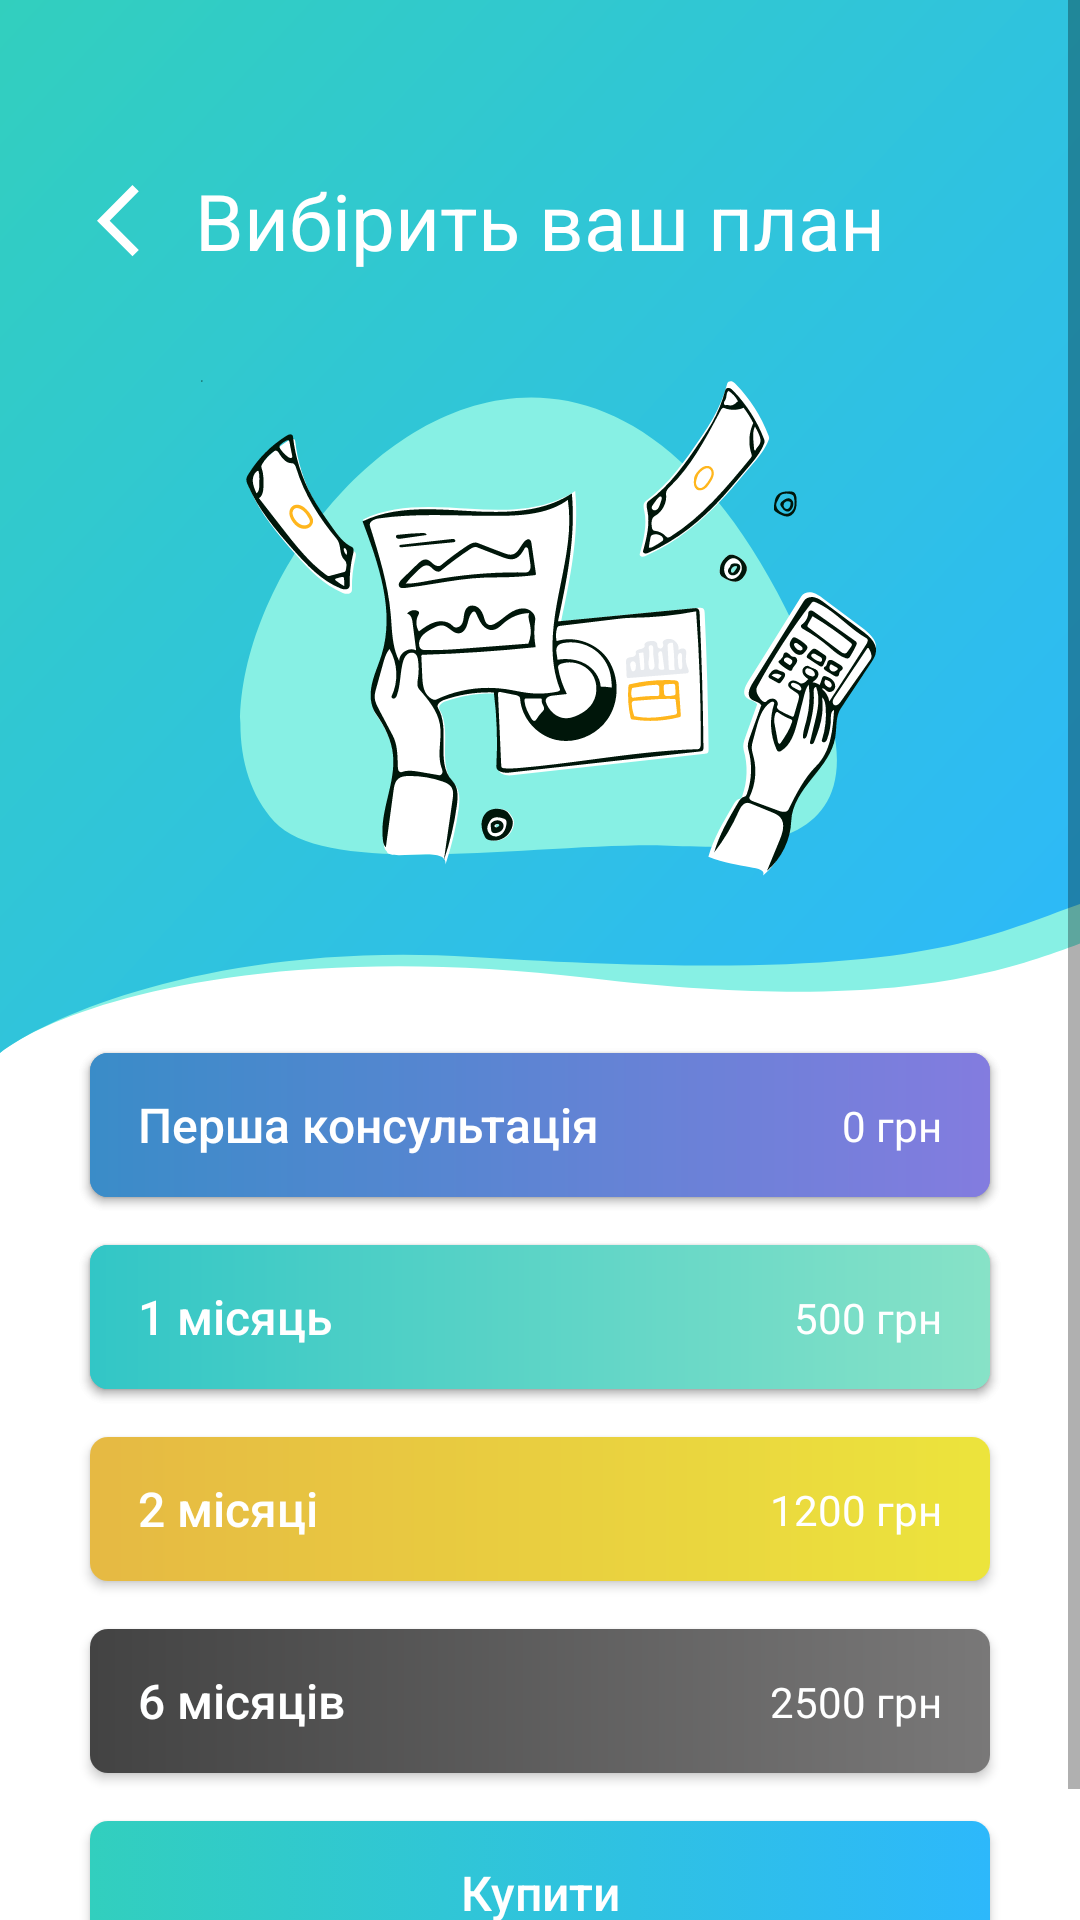

Where to tap for icons on this 1080x1920 app screen, as [x,y]:
back arrow: [118,220]
